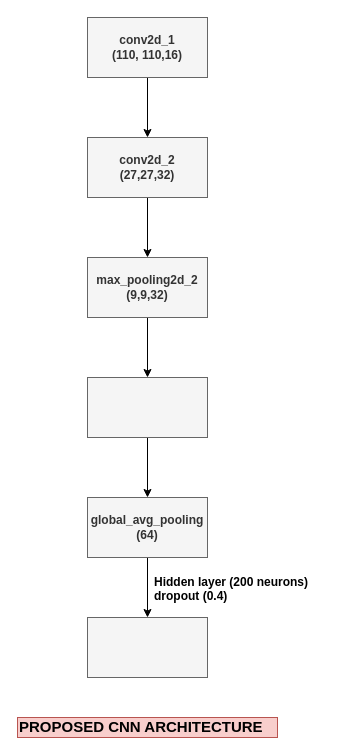
This 340x755 diagram has some shape labels left out. Each missing label, with the centre of its shape:
conv2d_3 (4,4,64): pixel 147 407
Output Layer dense_2 (133): pixel 147 647
